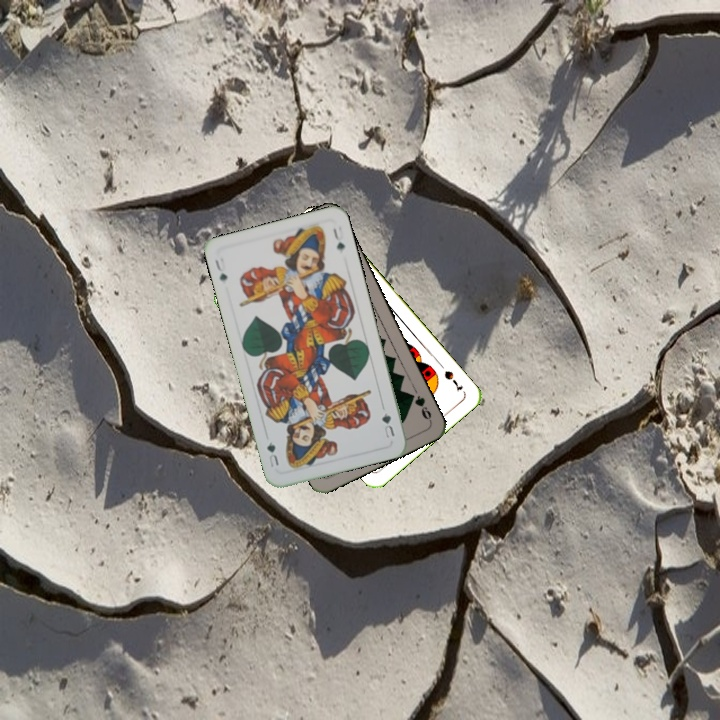G9: (405, 389, 434, 424)
GU: (377, 402, 397, 441), (211, 255, 230, 283)
S7: (440, 367, 465, 394)
